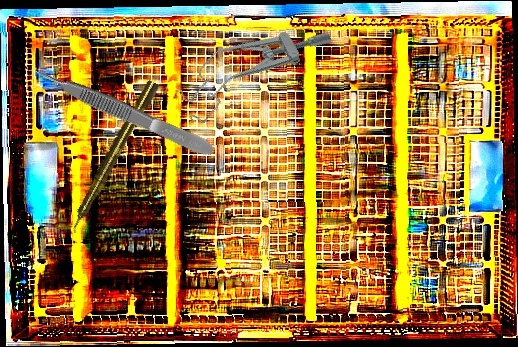Handpiece: (64, 78, 162, 236)
Speculum: (168, 1, 338, 128)
Tissue Forceps: (31, 60, 217, 162)
